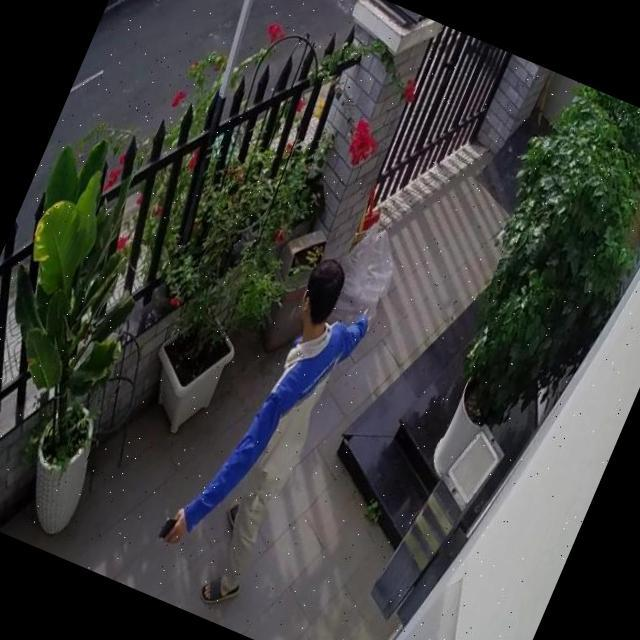person: (142, 241, 384, 614)
